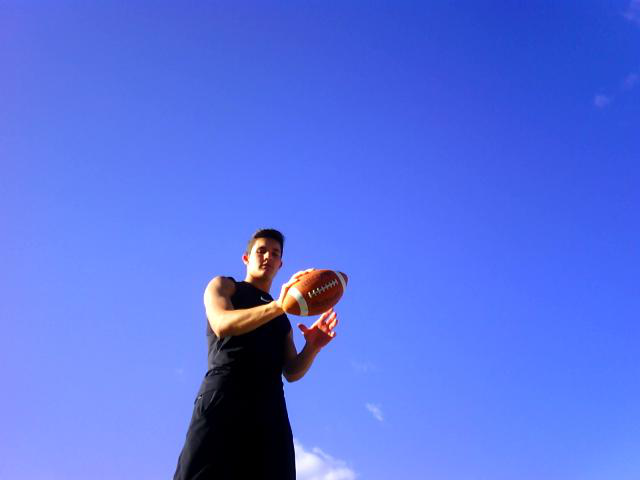footbal: (285, 266, 348, 319)
